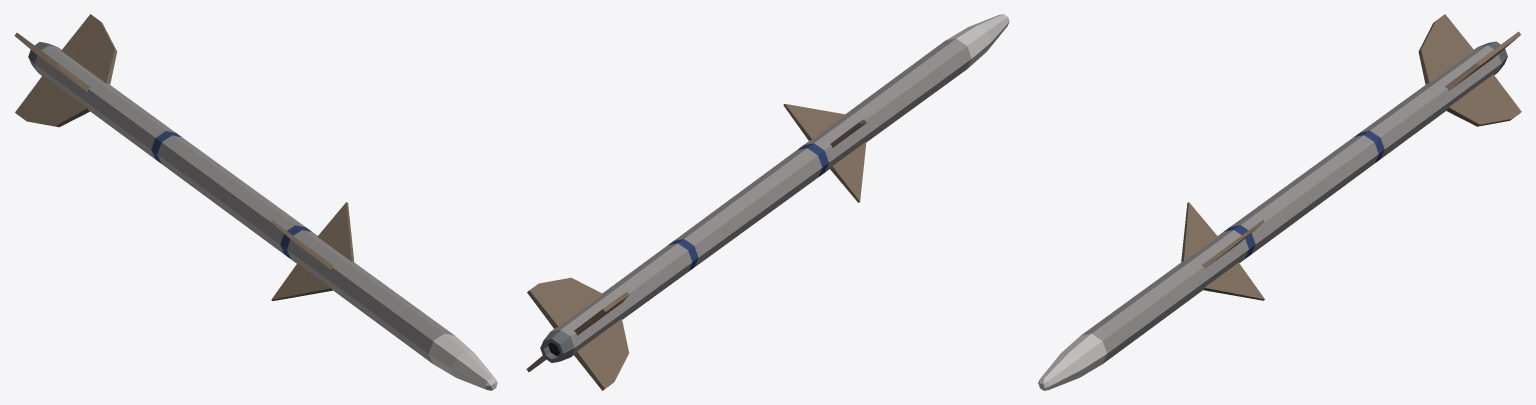
The model's file is SM_Prop_Missle_03.fbx.
The picture shows the model from 3 angles, left to right: view 1: azimuth 30°, elevation 25°; view 2: azimuth 150°, elevation 25°; view 3: azimuth 330°, elevation 25°; orthographic projection.
Visible parts, largest first — view 1: SM_Prop_Missle_03; view 2: SM_Prop_Missle_03; view 3: SM_Prop_Missle_03.
Boxes of the visible parts, bbox=[...] form: SM_Prop_Missle_03: bbox=[14, 14, 497, 390]; SM_Prop_Missle_03: bbox=[526, 14, 1009, 390]; SM_Prop_Missle_03: bbox=[1038, 14, 1521, 390].
Size of the model in its own units: 38.14 by 38.14 by 379.
